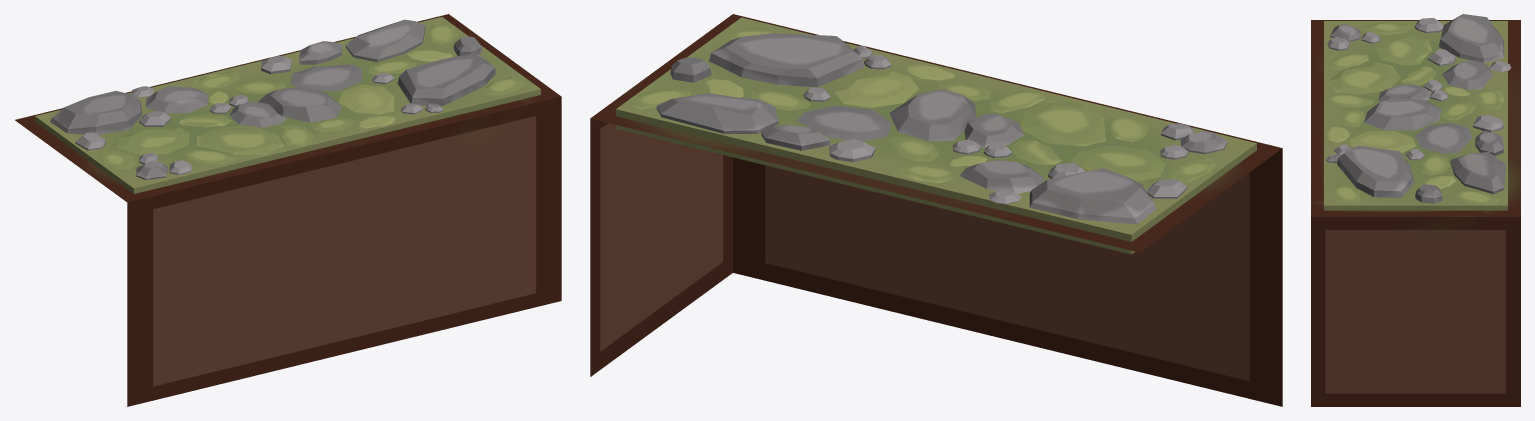
The model's file is decoration rocks.glb.
3 views of the same model, side by side, from view 1: azimuth 30°, elevation 25°; view 2: azimuth 150°, elevation 25°; view 3: azimuth 270°, elevation 25° (orthographic). The views are drawn at different scales.
Visible parts, largest first — view 1: Cube.017; view 2: Cube.017; view 3: Cube.017.
Part boxes in pixels (x1=…): Cube.017: x1=15, y1=14, x2=561, y2=406; Cube.017: x1=590, y1=14, x2=1282, y2=406; Cube.017: x1=1311, y1=14, x2=1520, y2=406.
Bounding box in the file's own units: 0.9412 × 0.4677 × 0.4234.
Materials: 3 (3 with a texture image).
